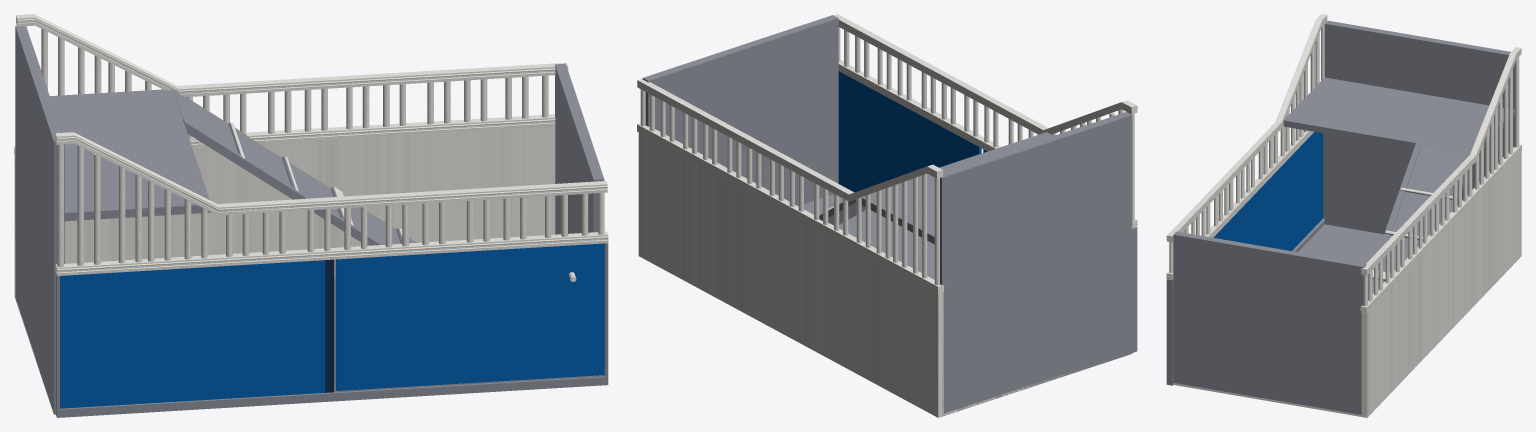
File: DOG COURSE.fbx
3 views of the same model, side by side, from view 1: azimuth 30°, elevation 25°; view 2: azimuth 150°, elevation 25°; view 3: azimuth 270°, elevation 25° (orthographic). The views are drawn at different scales.
Visible parts, largest first — view 1: polySurface750; view 2: polySurface750; view 3: polySurface750.
Part boxes in pixels (x1,y1,x2,y2): polySurface750: (14, 14, 608, 417); polySurface750: (637, 14, 1137, 417); polySurface750: (1166, 14, 1521, 417).
Bounding box in the file's own units: 461 × 229 × 353.
